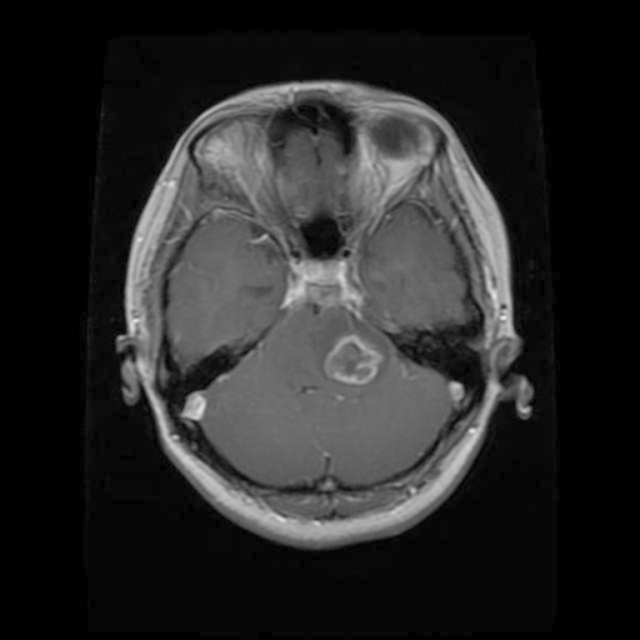pituitary tumor: (320, 333, 381, 388)
